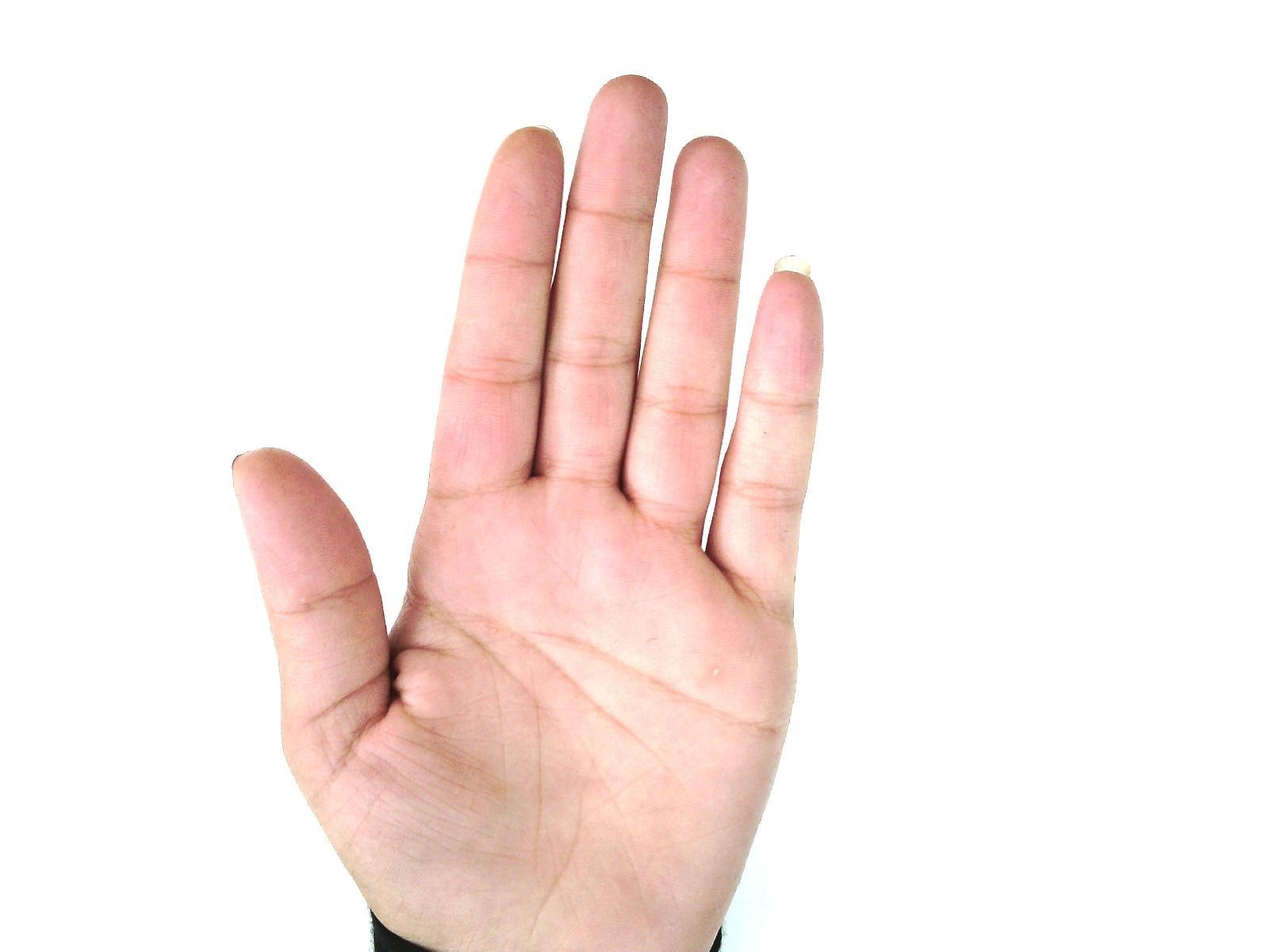open_palm: (230, 73, 828, 951)
